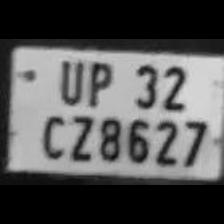2: (149, 114, 178, 168), (158, 61, 188, 112)
3: (128, 58, 158, 108)
6: (122, 114, 152, 164)
7: (177, 113, 206, 169)
8: (96, 112, 122, 162)
C: (36, 108, 68, 160)
P: (80, 57, 116, 106)
U: (53, 55, 83, 103)
Z: (65, 110, 95, 162)
